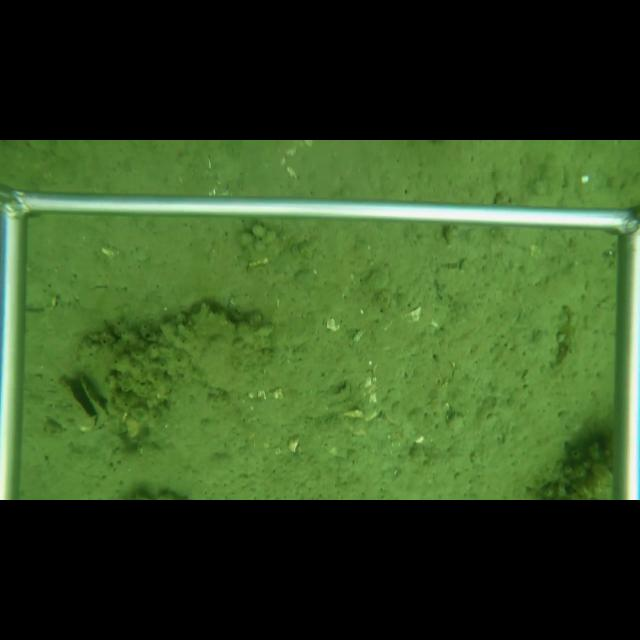Oyster-Open: (58, 368, 111, 437)
